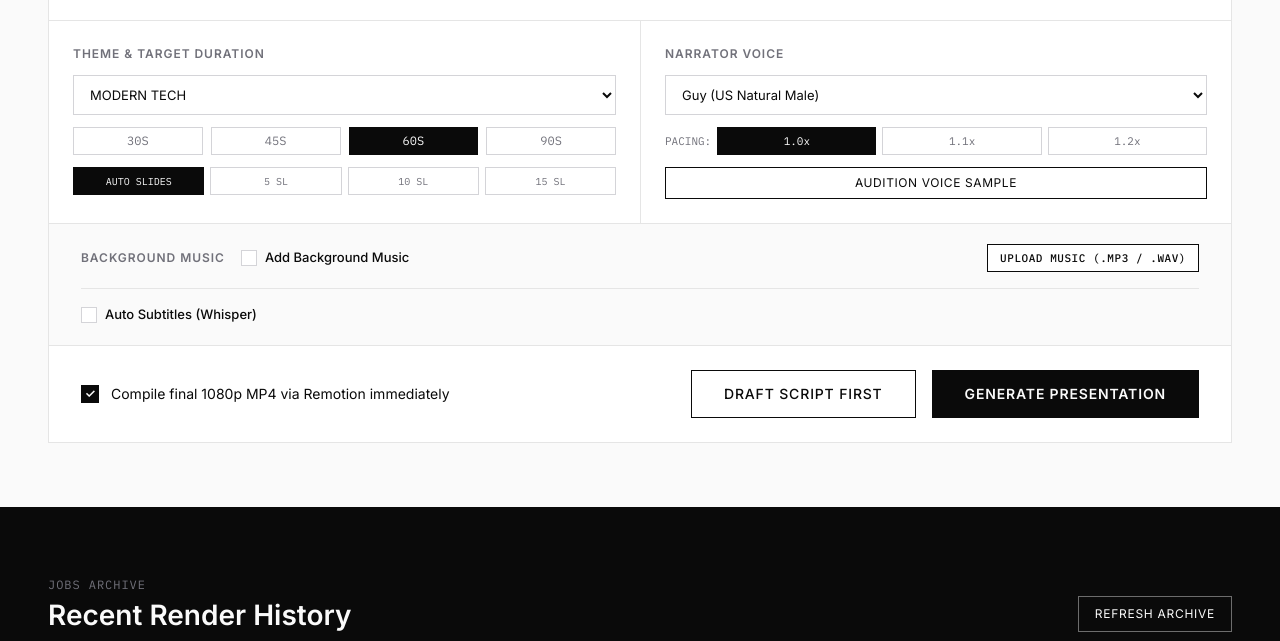
Scenario: Interactive Web Studio User Flows (jsdom + Testing Library) › searches stock visuals, previews backdrop on canvas, sends slide_backgrounds on compile, and shows gradient fallback notice
Earlier steps of the test are not shown.
(page scrolled)
Click the button "Draft Script First" at (803, 394), box [691, 370, 916, 418]
(page scrolled)
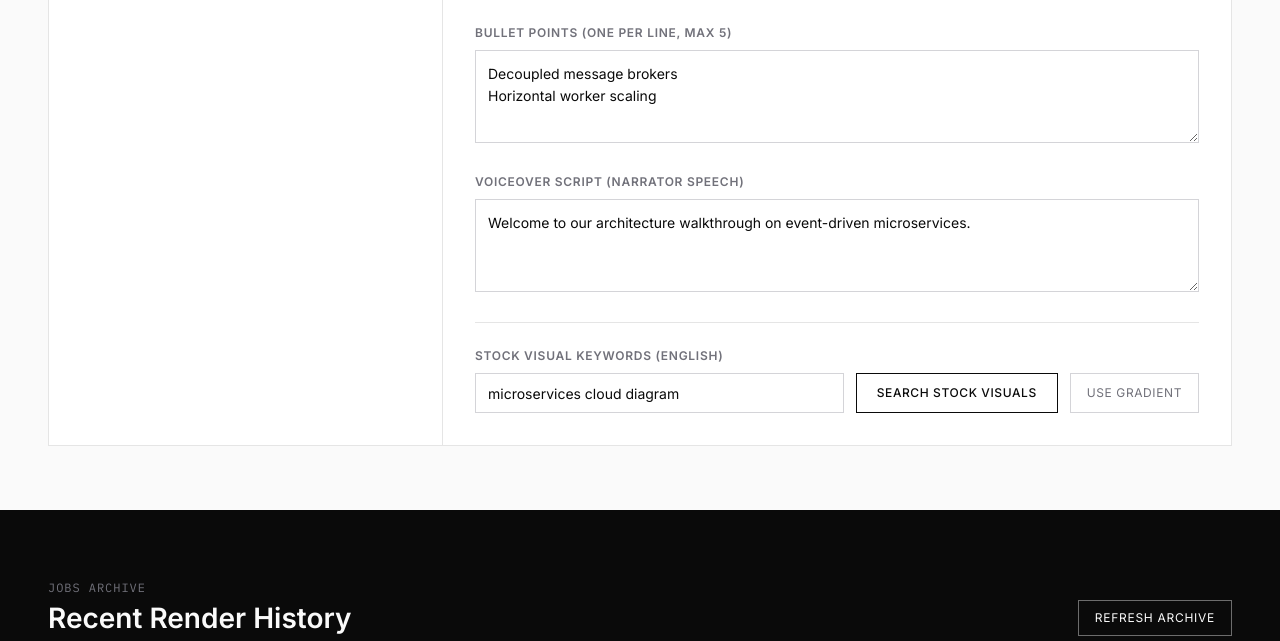
Search Unsplash/Pexels stock backgrounds
Click the button "Search Stock Visuals" at (957, 393), box [856, 373, 1058, 413]
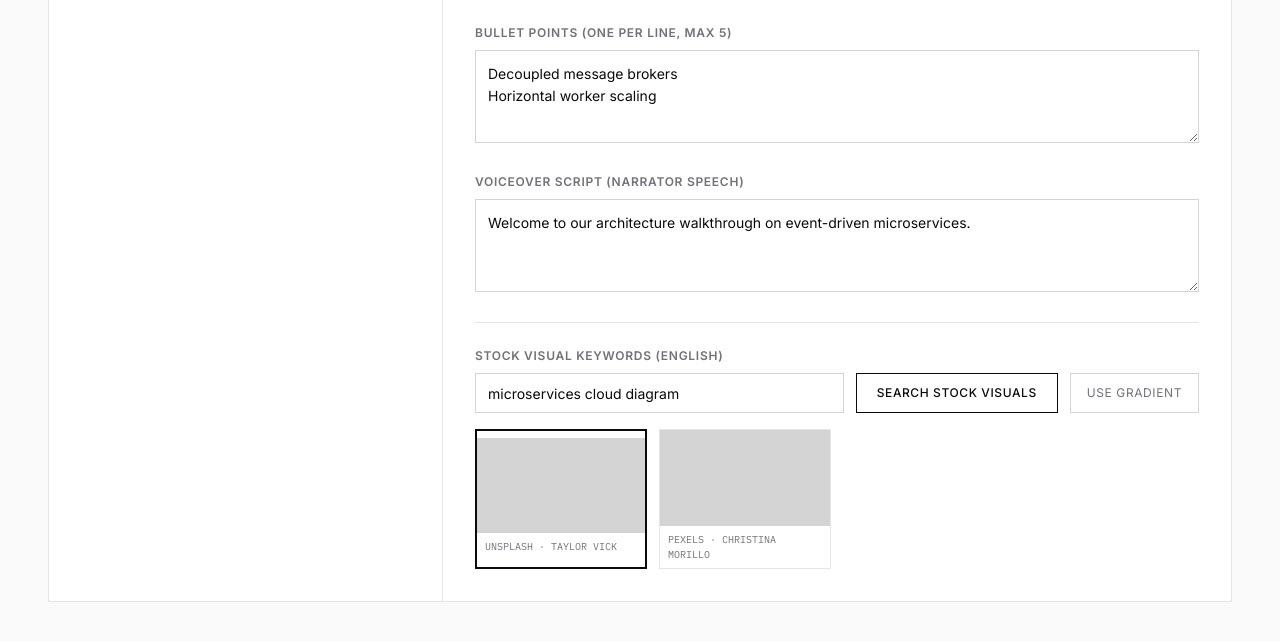
Click the button "unsplash · Taylor Vick" at (561, 499), box [475, 429, 647, 569]
(page scrolled)
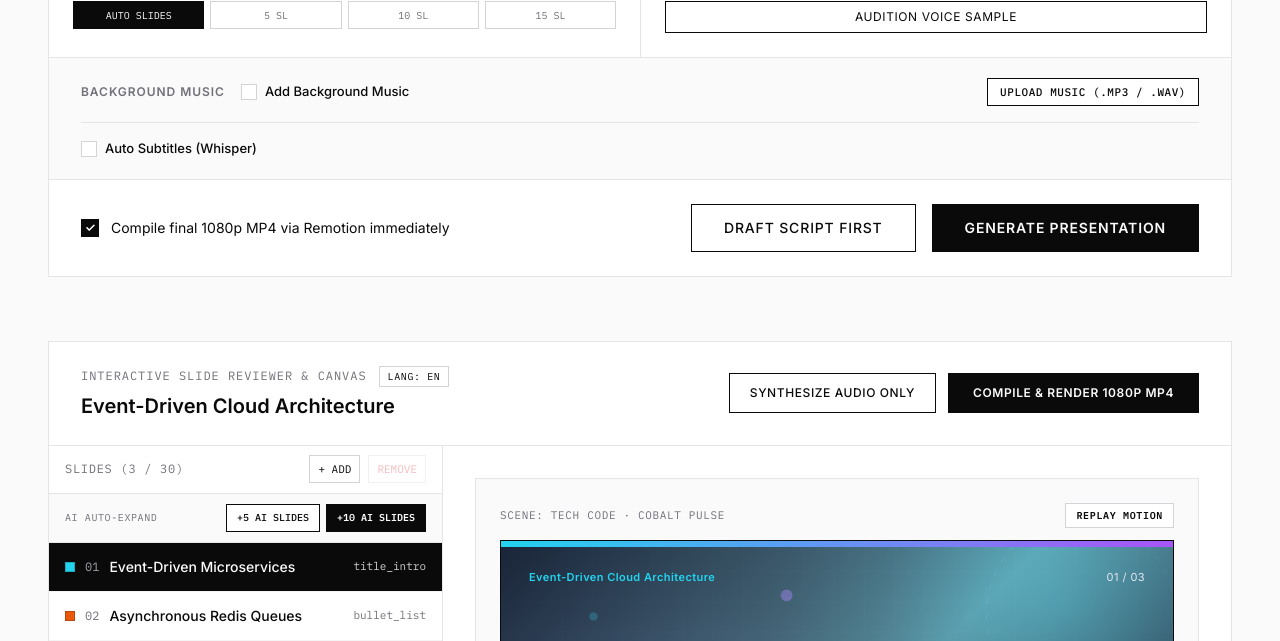
Click the button "Compile & Render 1080p MP4" at (1074, 393), box [948, 373, 1199, 413]
(page scrolled)
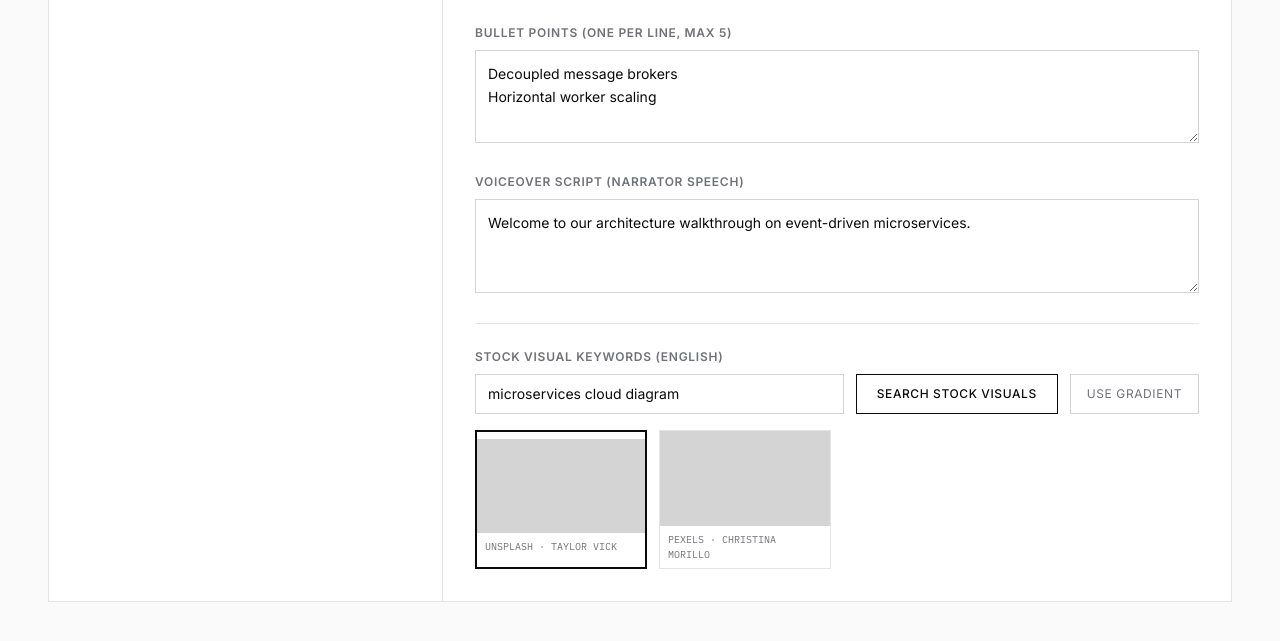
Click the button "Use Gradient" at (1134, 394), box [1070, 374, 1199, 414]
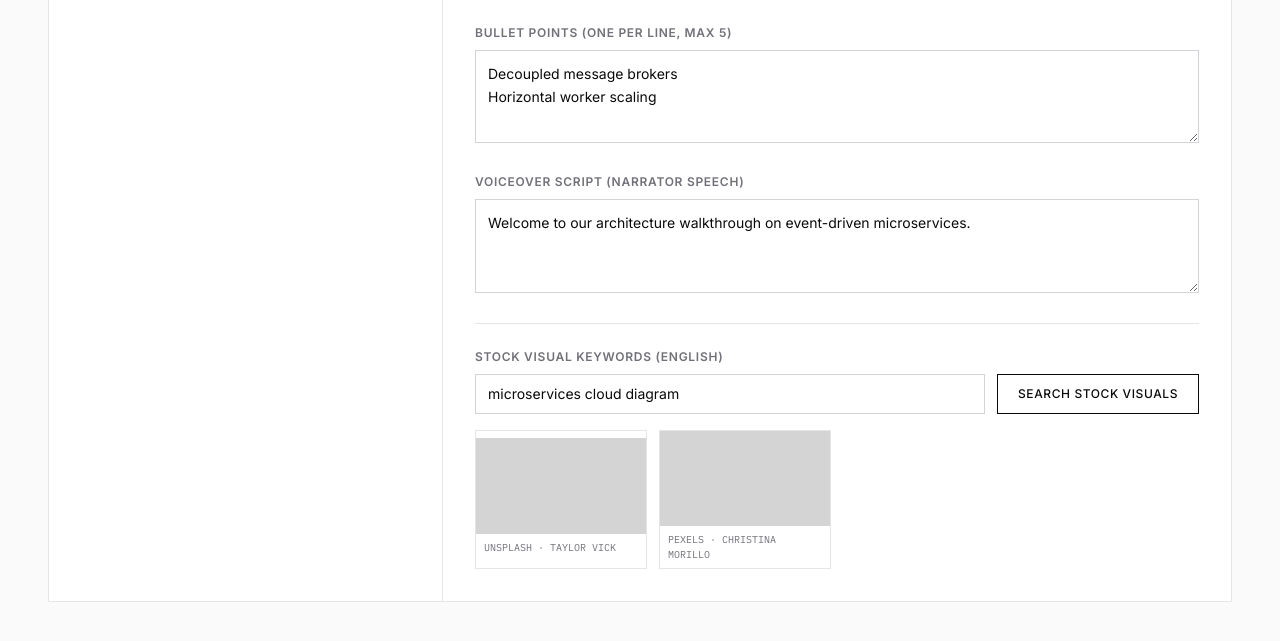
Click the button "Search Stock Visuals" at (1098, 394), box [997, 374, 1199, 414]
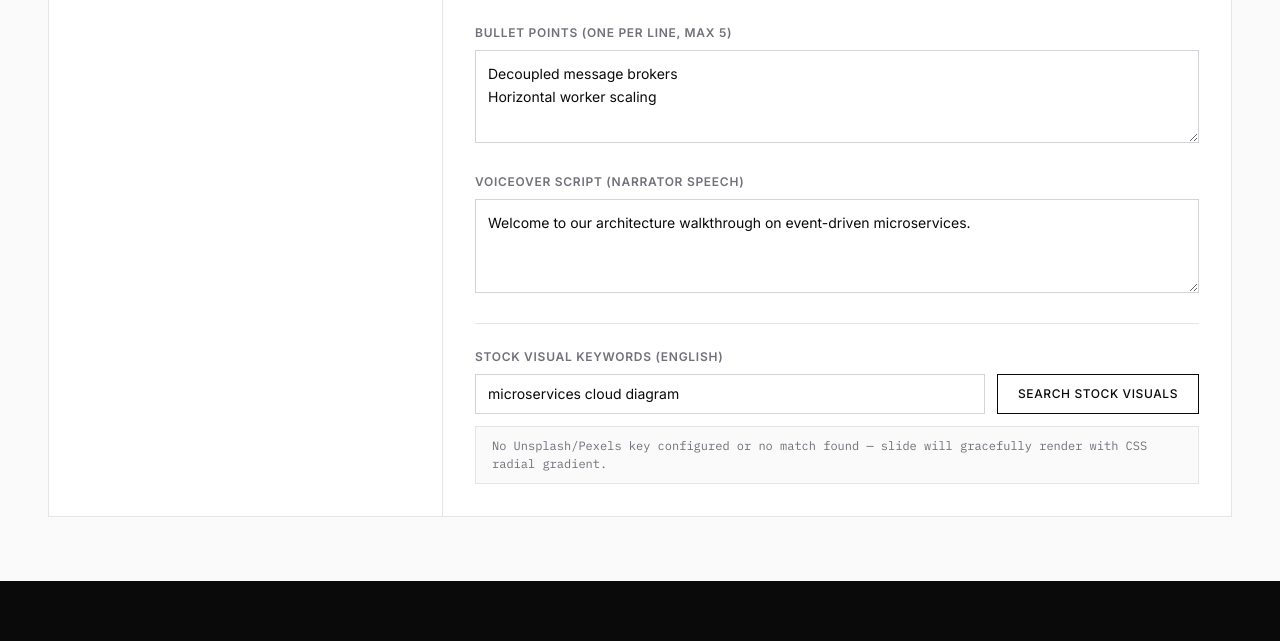
Result: the text with test id "stock-fallback-note" is shown at [475, 426, 1199, 484]
